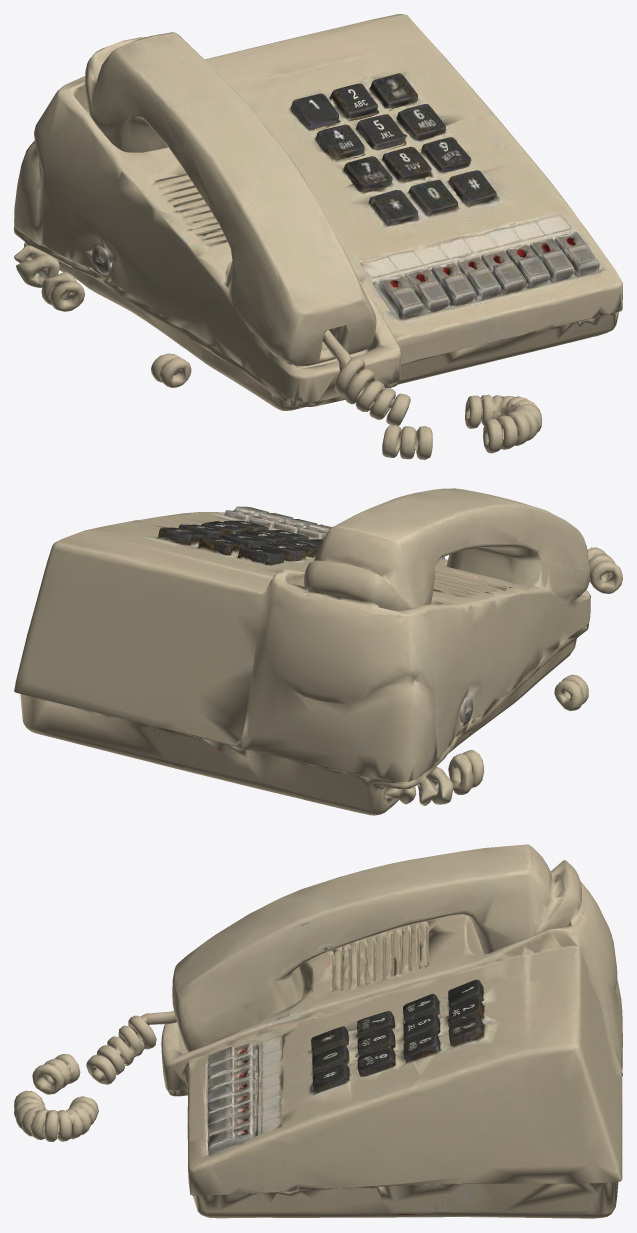
Rendered from phone.glb.
The picture shows the model from 3 angles, top to bottom: view 1: azimuth 30°, elevation 25°; view 2: azimuth 150°, elevation 25°; view 3: azimuth 270°, elevation 25°; orthographic projection. The views are drawn at different scales.
Size of the model in its own units: 1.4 by 0.7906 by 1.9.
1 material, 1 textured.
